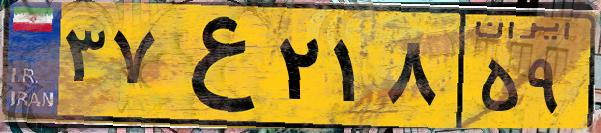1: (330, 28, 385, 110)
2: (270, 28, 330, 110)
3: (57, 26, 110, 100)
5: (475, 38, 525, 113)
7: (110, 28, 158, 98)
8: (385, 28, 445, 110)
9: (525, 38, 570, 115)
ع: (158, 12, 270, 120)
